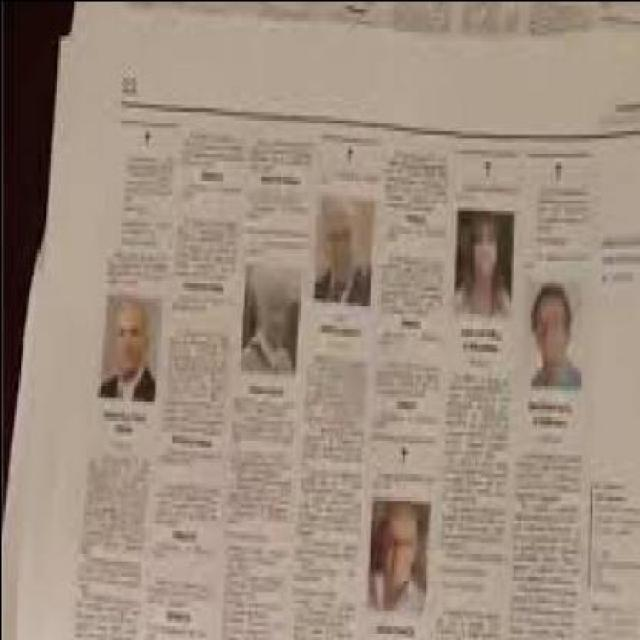PAPER: (0, 0, 638, 637)
